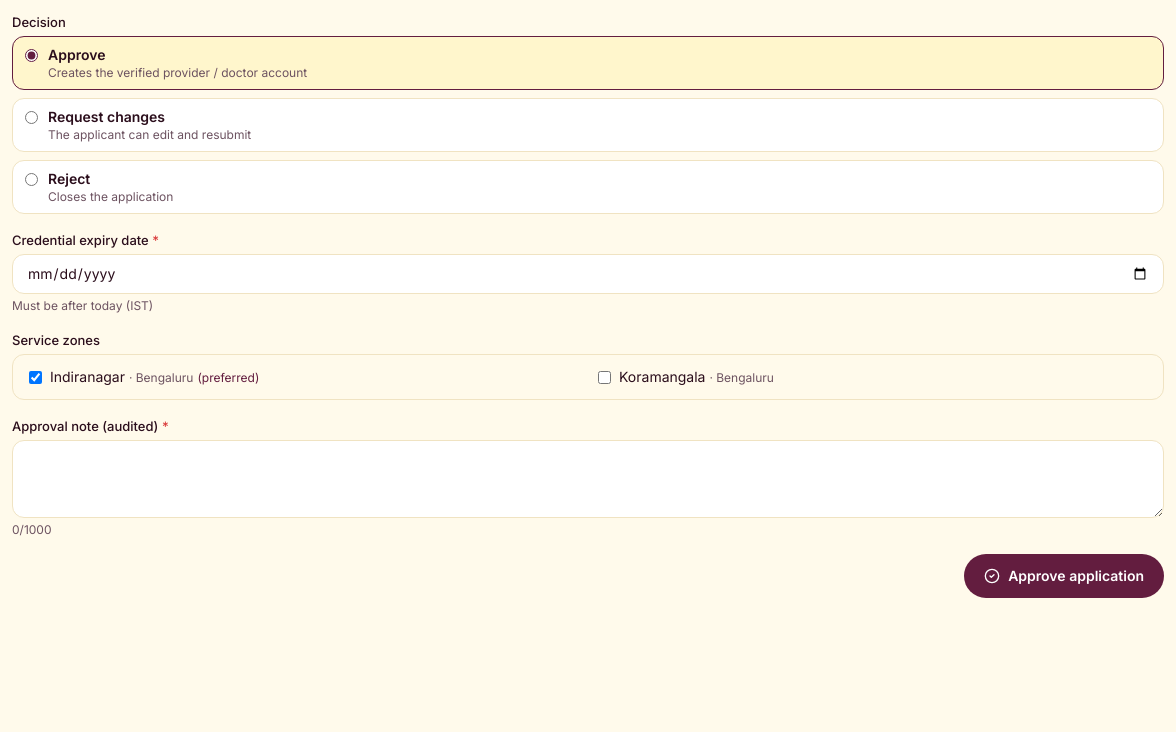
Scenario: ApplicationDecisionForm › hides capabilities for doctors and switches to a reject button
Click the radio button labelled "Reject Closes the application" at (32, 180), box [25, 173, 38, 186]
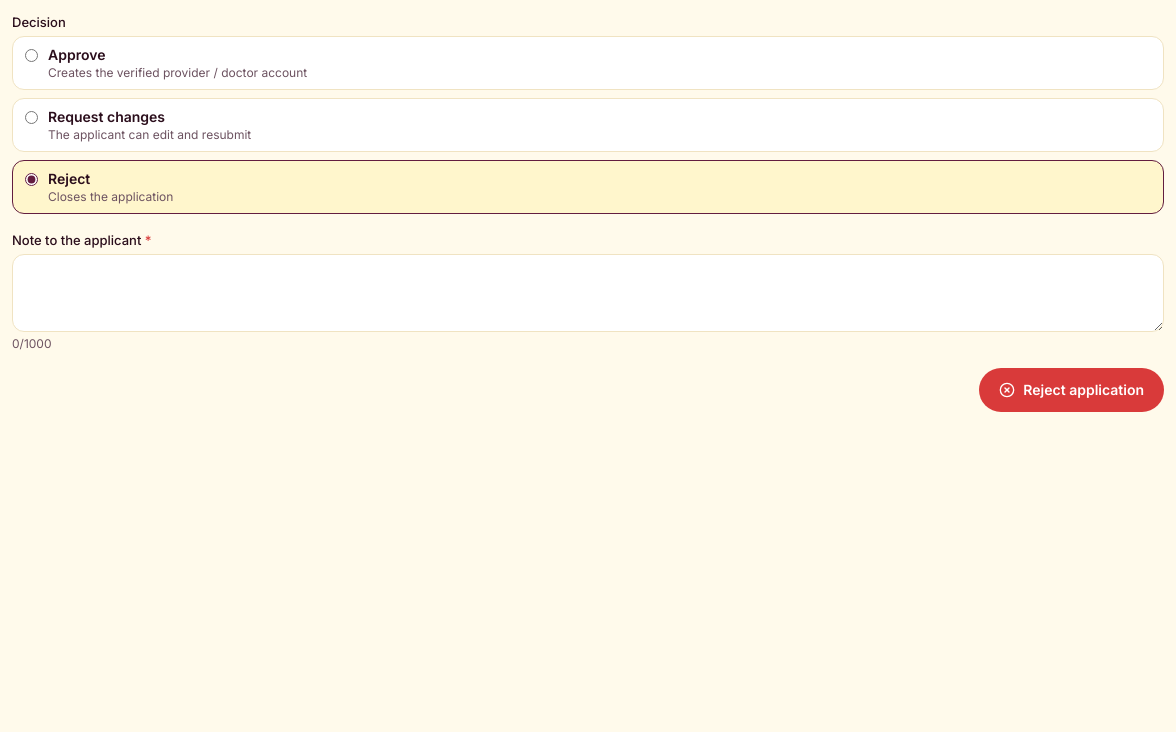
Expected: the button "Reject application" is shown, [979, 368, 1164, 412]
Expected: the label labelled "Credential expiry date" is gone
